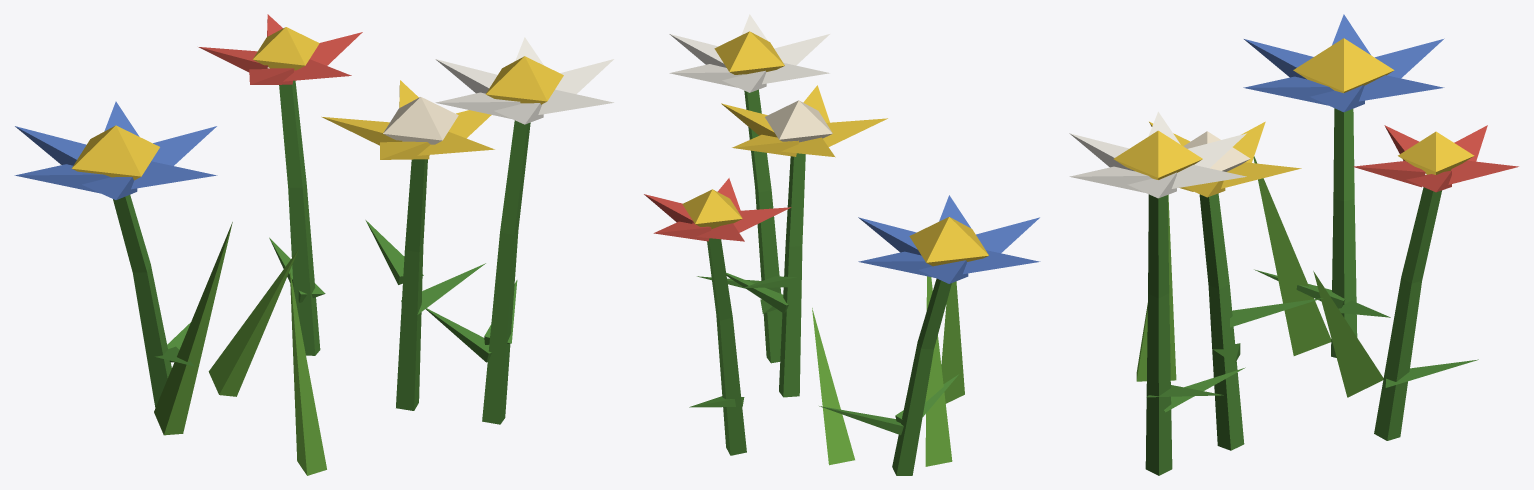
Rendered from HS_LP_Flower_Cluster_01.fbx.
3 views of the same model, side by side, from view 1: azimuth 30°, elevation 25°; view 2: azimuth 150°, elevation 25°; view 3: azimuth 270°, elevation 25° (orthographic). The views are drawn at different scales.
Visible parts, largest first — view 1: HS_LP_Flower_Cluster_01; view 2: HS_LP_Flower_Cluster_01; view 3: HS_LP_Flower_Cluster_01.
Part boxes in pixels (x1=…): HS_LP_Flower_Cluster_01: x1=14, y1=14, x2=613, y2=475; HS_LP_Flower_Cluster_01: x1=644, y1=14, x2=1040, y2=475; HS_LP_Flower_Cluster_01: x1=1069, y1=14, x2=1518, y2=475.
Bounding box in the file's own units: 43.64 × 29.91 × 33.89.
